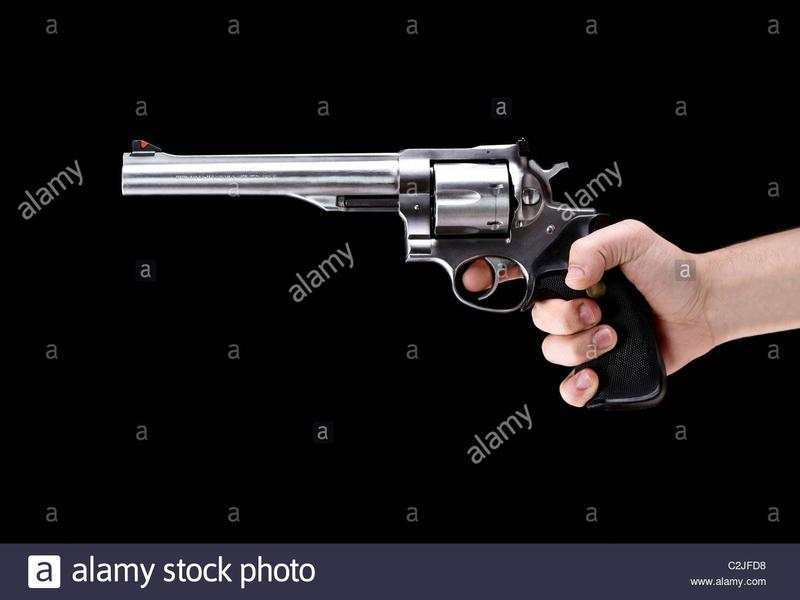Revolver: (106, 117, 673, 407)
